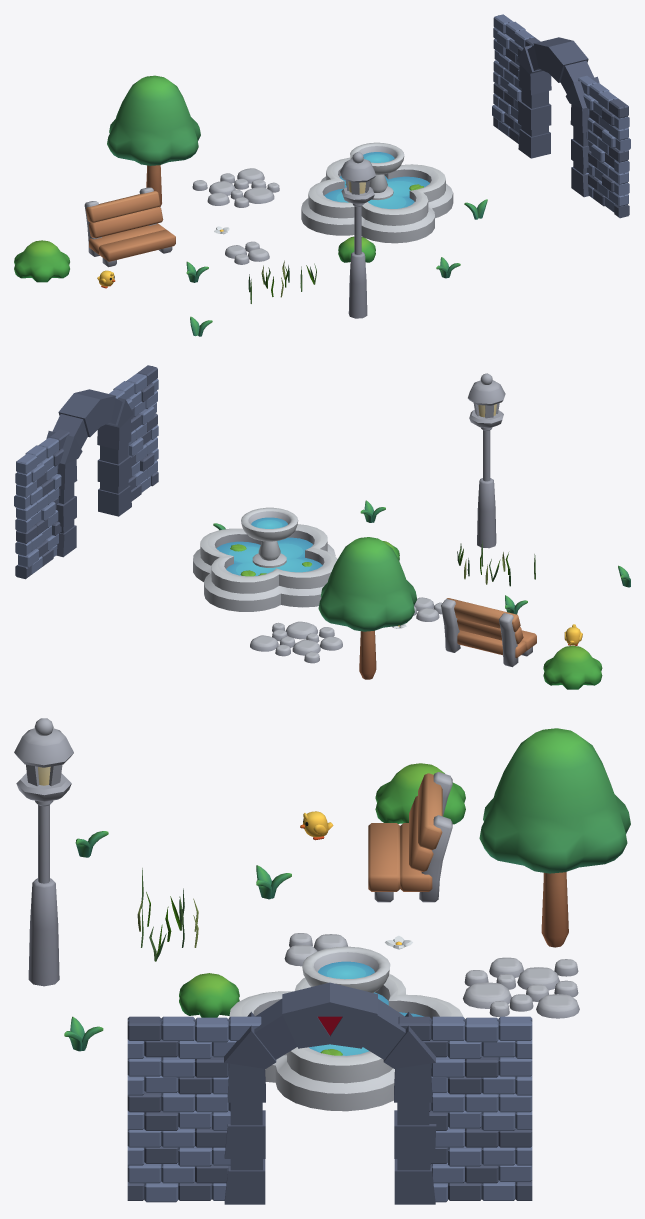
Rendered from TestScene5.glb.
3 views of the same model, one above another, from view 1: azimuth 30°, elevation 25°; view 2: azimuth 150°, elevation 25°; view 3: azimuth 270°, elevation 25° (orthographic). The views are drawn at different scales.
Visible parts, largest first — view 1: brick wall without door.001, fountain, tree, bench, street_lantern, cobble_stones_large, bush_large, cobble_stones, bush; view 2: brick wall without door.001, fountain, tree, bench, street_lantern, cobble_stones_large, bush_large, cobble_stones; view 3: brick wall without door.001, tree, fountain, street_lantern, bench, cobble_stones_large, bush_large, bush, cobble_stones.
Part boxes in pixels (x1,y1,x2,y2): brick wall without door.001: (492,14,630,218); fountain: (301,142,453,243); tree: (107,75,200,207); bench: (84,187,175,267); street_lantern: (340,152,375,318); cobble_stones_large: (192,168,279,207); bush_large: (14,240,69,282); cobble_stones: (225,241,269,264); bush: (338,236,375,262); brick wall without door.001: (14,365,158,579); fountain: (193,507,337,611); tree: (318,537,416,679); bench: (441,598,536,667); street_lantern: (468,373,505,548); cobble_stones_large: (250,621,342,663); bush_large: (543,645,602,689); cobble_stones: (413,597,442,621); brick wall without door.001: (127,982,532,1204); tree: (479,728,630,947); fountain: (229,946,463,1111); street_lantern: (14,718,73,986); bench: (368,772,452,902); cobble_stones_large: (463,957,579,1018); bush_large: (375,763,465,824); bush: (179,973,239,1017); cobble_stones: (284,933,347,966).
Size of what is drawn, in the model's own units: 15.37 by 4.5 by 9.63.
20 materials, 17 textured.
